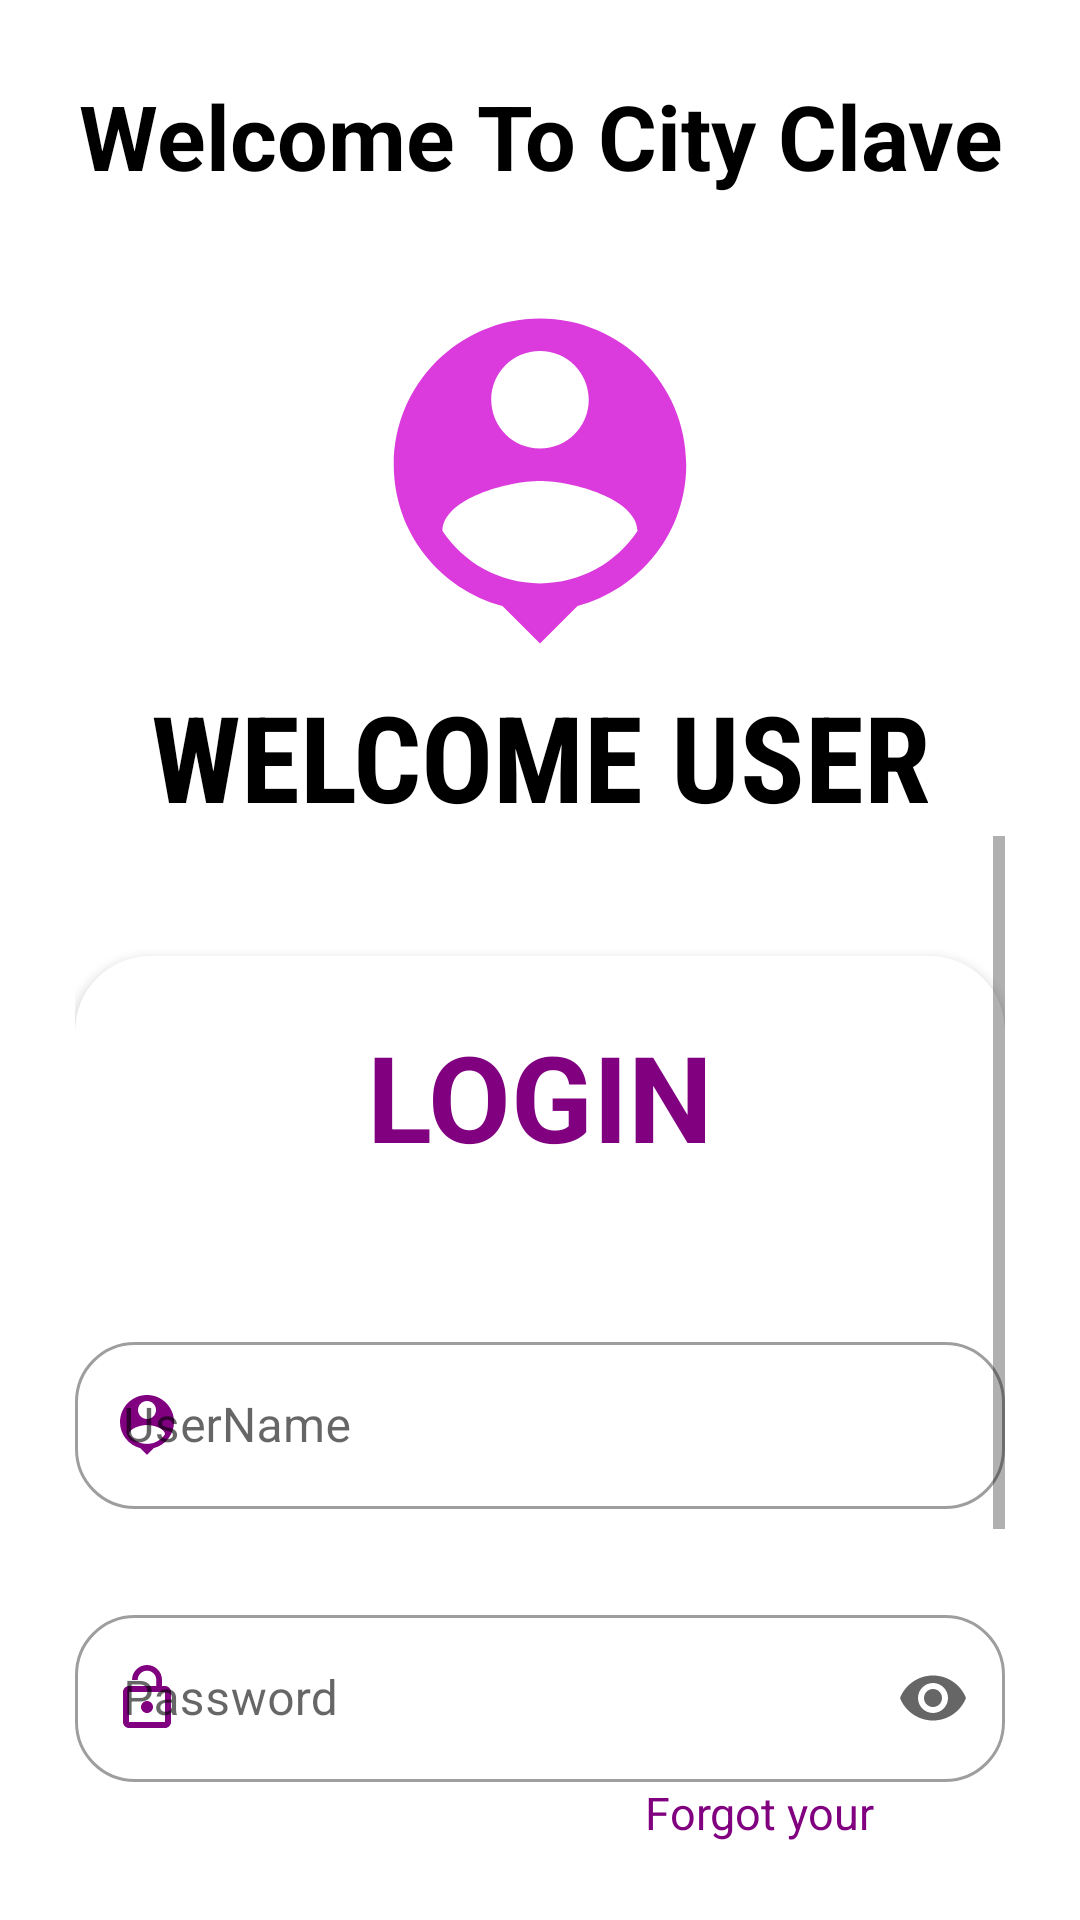

Screen size 1080 × 1920. Icon name, then its center in pixels as [x,y]:
person: [540,481]
